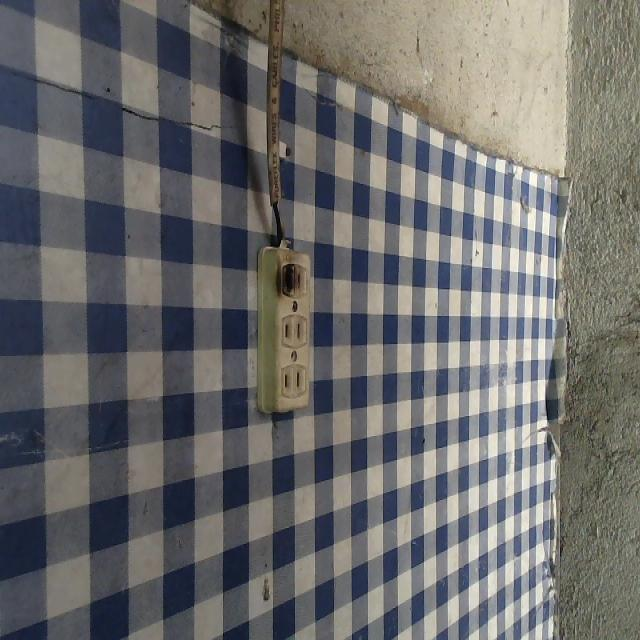-: (276, 260, 297, 304)
